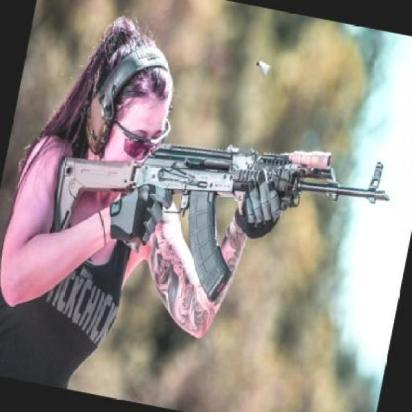Gun: (28, 96, 394, 334)
